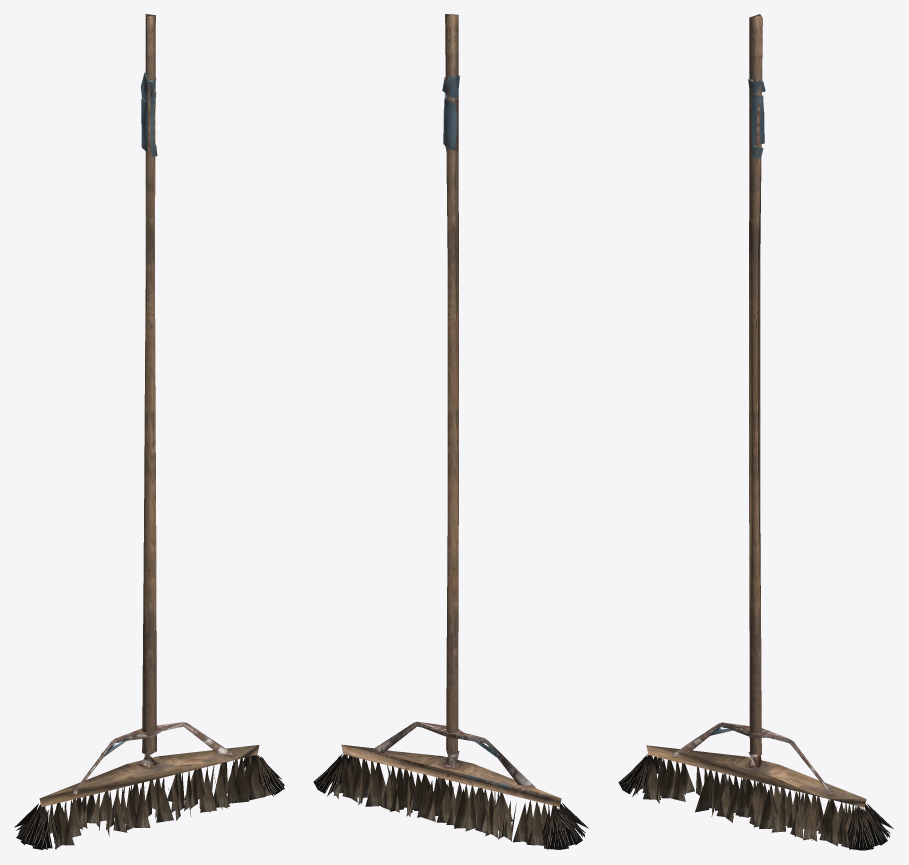
File: wooden_broom.glb
3 renders of one model, left to right at view 1: azimuth 30°, elevation 25°; view 2: azimuth 150°, elevation 25°; view 3: azimuth 330°, elevation 25°, orthographic.
Parts seen in each view (by area): view 1: wooden_broom, wooden_broom_handle, wooden_broom_bristles; view 2: wooden_broom, wooden_broom_handle, wooden_broom_bristles; view 3: wooden_broom, wooden_broom_handle, wooden_broom_bristles.
Part boxes in pixels (x1,y1,x2,y2): wooden_broom: (32, 722, 273, 849); wooden_broom_handle: (141, 14, 157, 765); wooden_broom_bristles: (14, 755, 284, 849); wooden_broom: (333, 721, 567, 850); wooden_broom_handle: (442, 14, 459, 776); wooden_broom_bristles: (313, 754, 588, 849); wooden_broom: (634, 722, 873, 850); wooden_broom_handle: (748, 14, 765, 768); wooden_broom_bristles: (618, 754, 893, 850).
Bounding box in the file's own units: 0.4902 × 1.44 × 0.1038.
2 materials, 2 textured.
